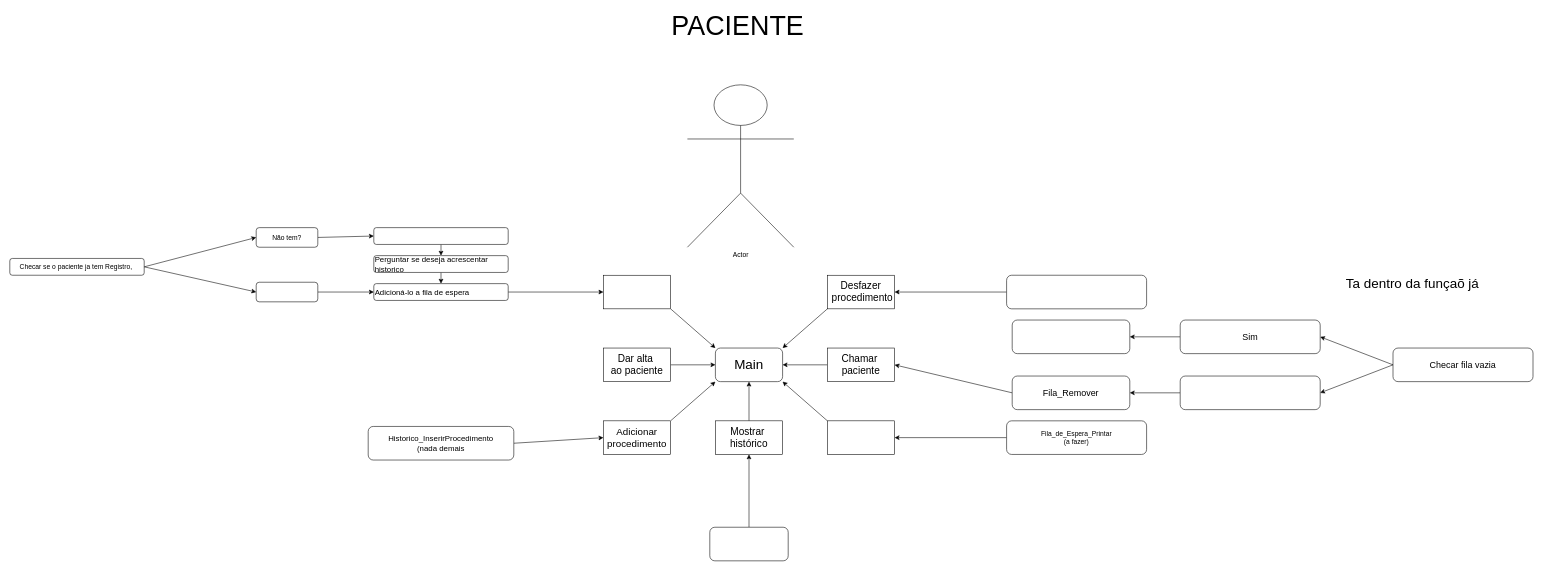
Image size: 1543x571. Some labels were removed from this diagram. The shapes that lost their labels are listed below. From the top down, each one's centre as x and y in pixels, then its label:
point (440, 235): Criar paciente com ID e nome
point (287, 292): Tem!
point (637, 292): Registrar paciente
point (1076, 292): Historico_RemoverProcedimento (nada demais
point (1071, 336): Não dá, a fila esta vazia
point (1250, 392): Não
point (861, 437): Mostrar fila de espera
point (748, 544): Historico_Printar
